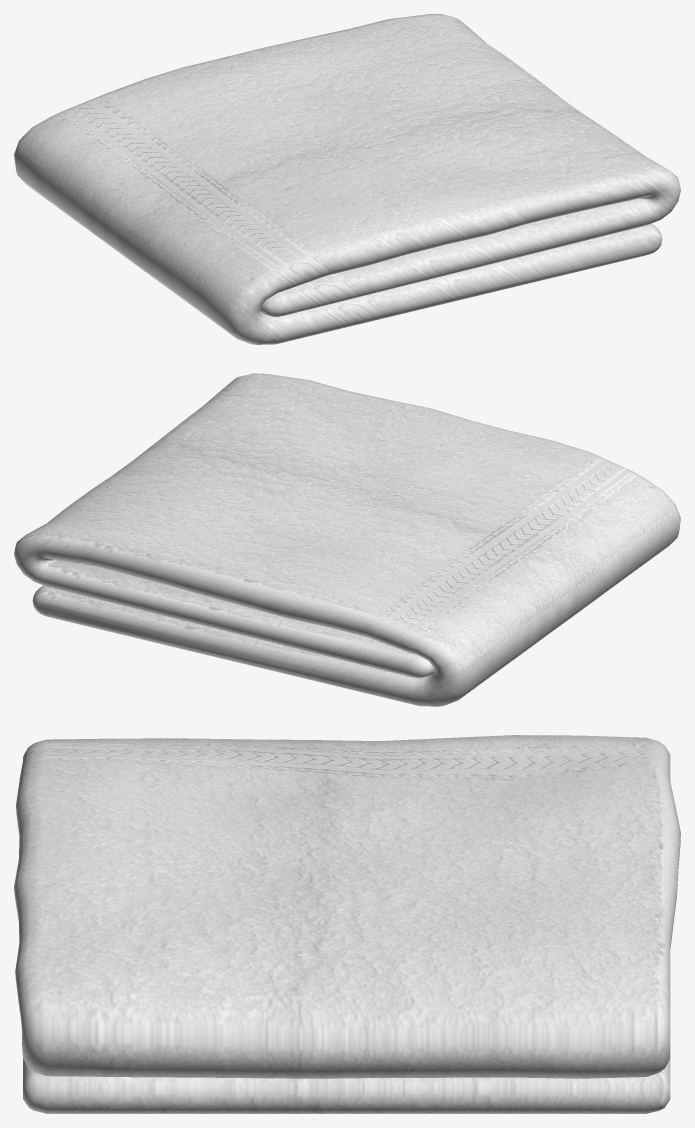
File: maojin.FBX
The picture shows the model from 3 angles, top to bottom: view 1: azimuth 30°, elevation 25°; view 2: azimuth 150°, elevation 25°; view 3: azimuth 270°, elevation 25°; orthographic projection. The views are drawn at different scales.
Parts seen in each view (by area): view 1: maojin; view 2: maojin; view 3: maojin.
Boxes of the visible parts, bbox=[...] form: maojin: bbox=[14, 14, 680, 344]; maojin: bbox=[14, 373, 680, 706]; maojin: bbox=[14, 735, 680, 1113].
Bounding box in the file's own units: 13.92 × 2.61 × 12.41.
